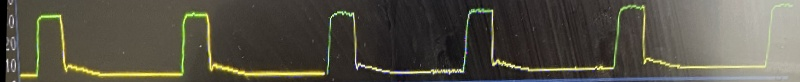normal_pressure: (26, 3, 763, 82)
